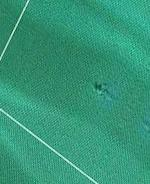knot: (89, 78, 114, 103)
